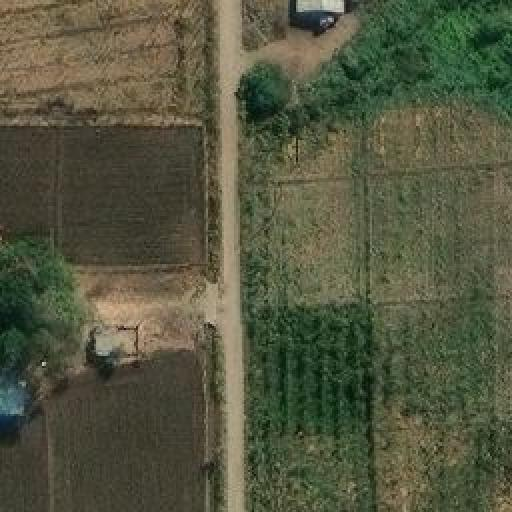manzanas: (84, 320, 141, 367), (292, 0, 349, 31)
